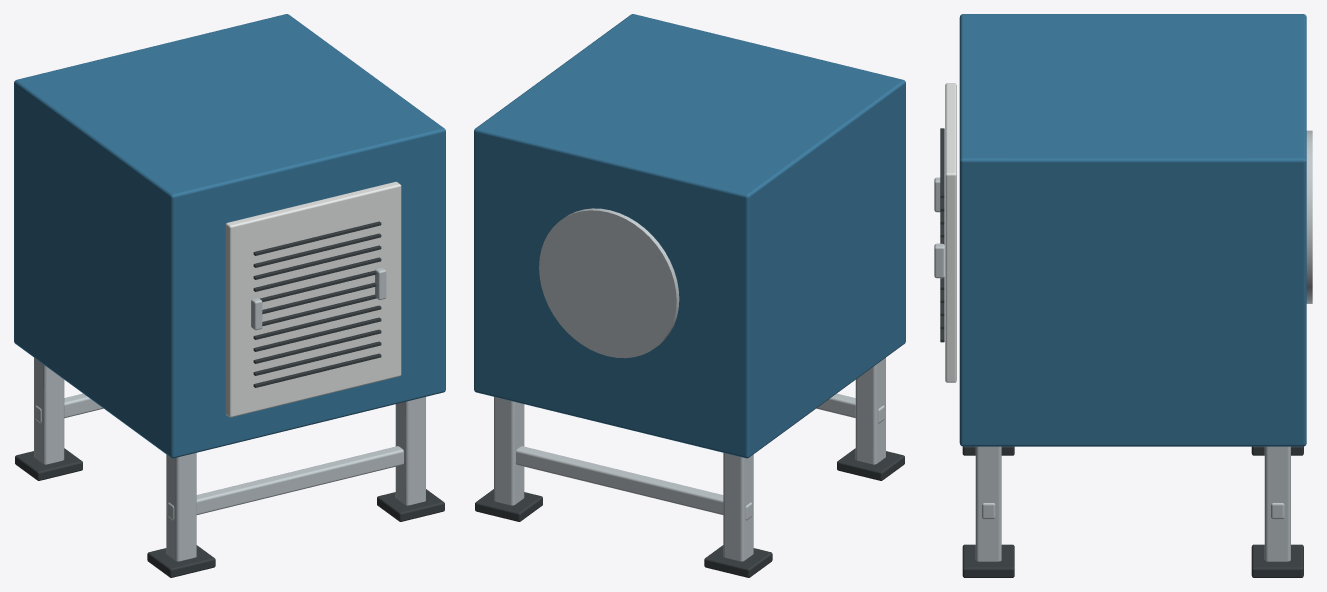
The model's file is recycling-centre-and-material-sorting-air-separator-ho-32f95eaf__31117.glb.
3 views of the same model, side by side, from view 1: azimuth 30°, elevation 25°; view 2: azimuth 150°, elevation 25°; view 3: azimuth 270°, elevation 25° (orthographic). The views are drawn at different scales.
Parts seen in each view (by area): view 1: air-separator-housing; view 2: air-separator-housing; view 3: air-separator-housing.
Part boxes in pixels (box(x1,y1,x2,y2)): air-separator-housing: box(14, 14, 445, 577); air-separator-housing: box(474, 14, 905, 577); air-separator-housing: box(934, 14, 1312, 577).
Size of the model in its own units: 1.2 by 1.6 by 1.31.
